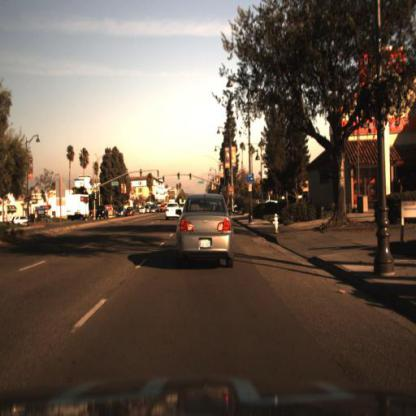car: (177, 194, 235, 269), (163, 194, 183, 226), (65, 207, 91, 225), (95, 202, 109, 223), (9, 215, 31, 228), (114, 205, 127, 221), (124, 205, 136, 219)
trafficLight-Green: (174, 170, 182, 184), (188, 170, 194, 183)
